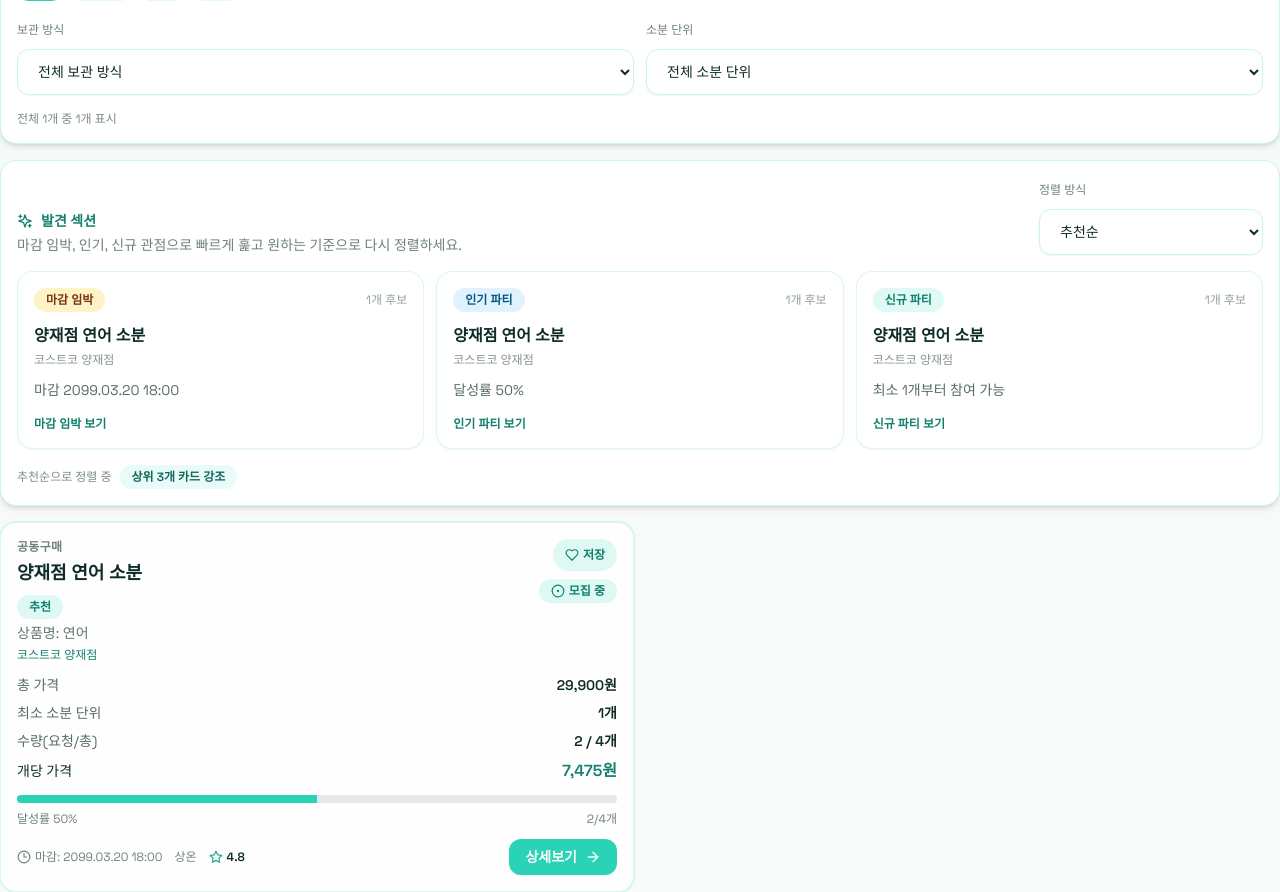
Test case: PartyList favorite › 목록에서_관심_파티를_저장한다
The image size is (1280, 892).
(page scrolled)
Step 1. Click the button with aria-label "관심 파티 저장" → [585, 555], box [553,539,617,571]
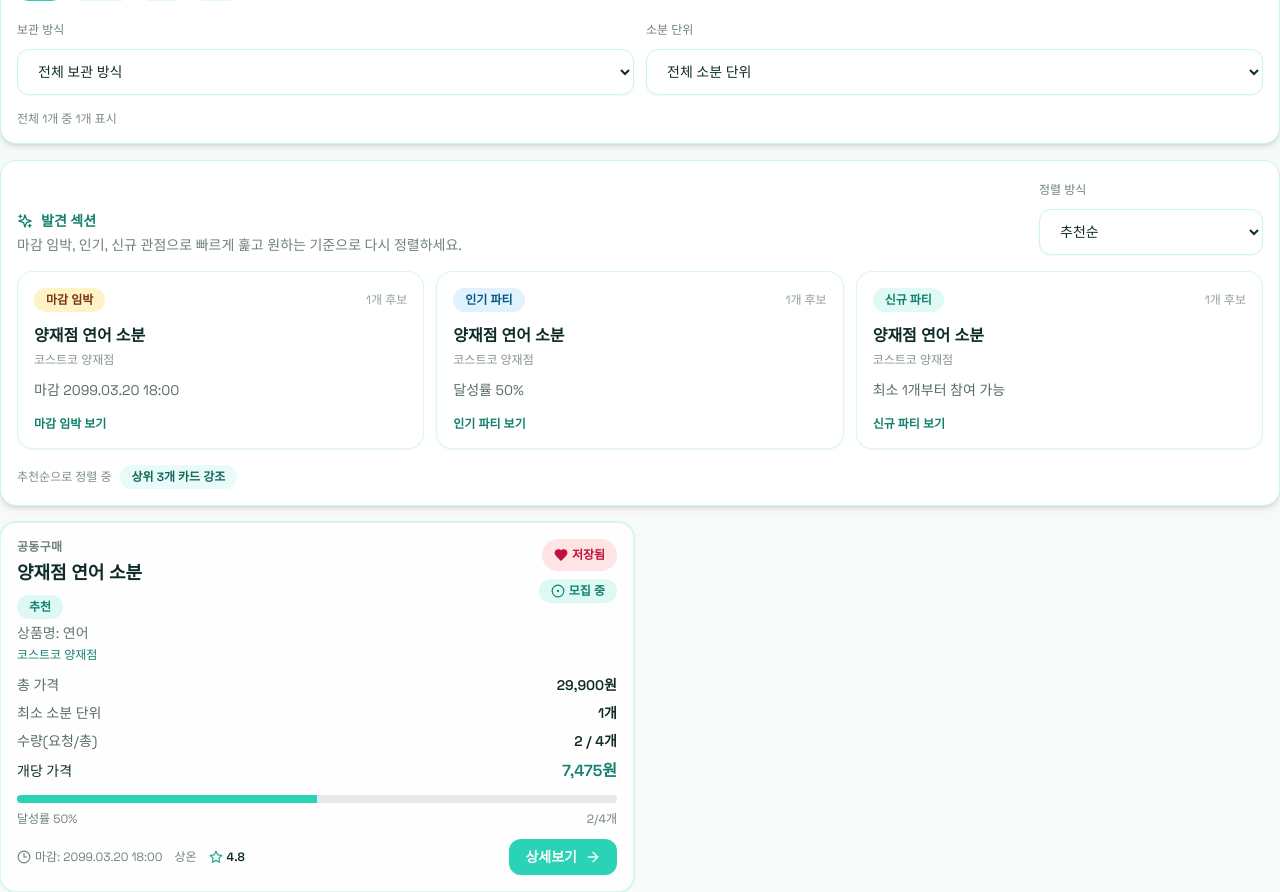
Result: the button with aria-label "관심 파티 해제" is shown at [542,539,617,571]
